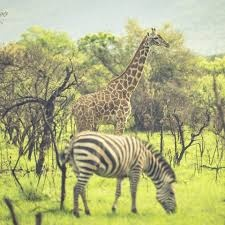giraffe: (67, 24, 171, 182)
zebra: (60, 131, 182, 218)
